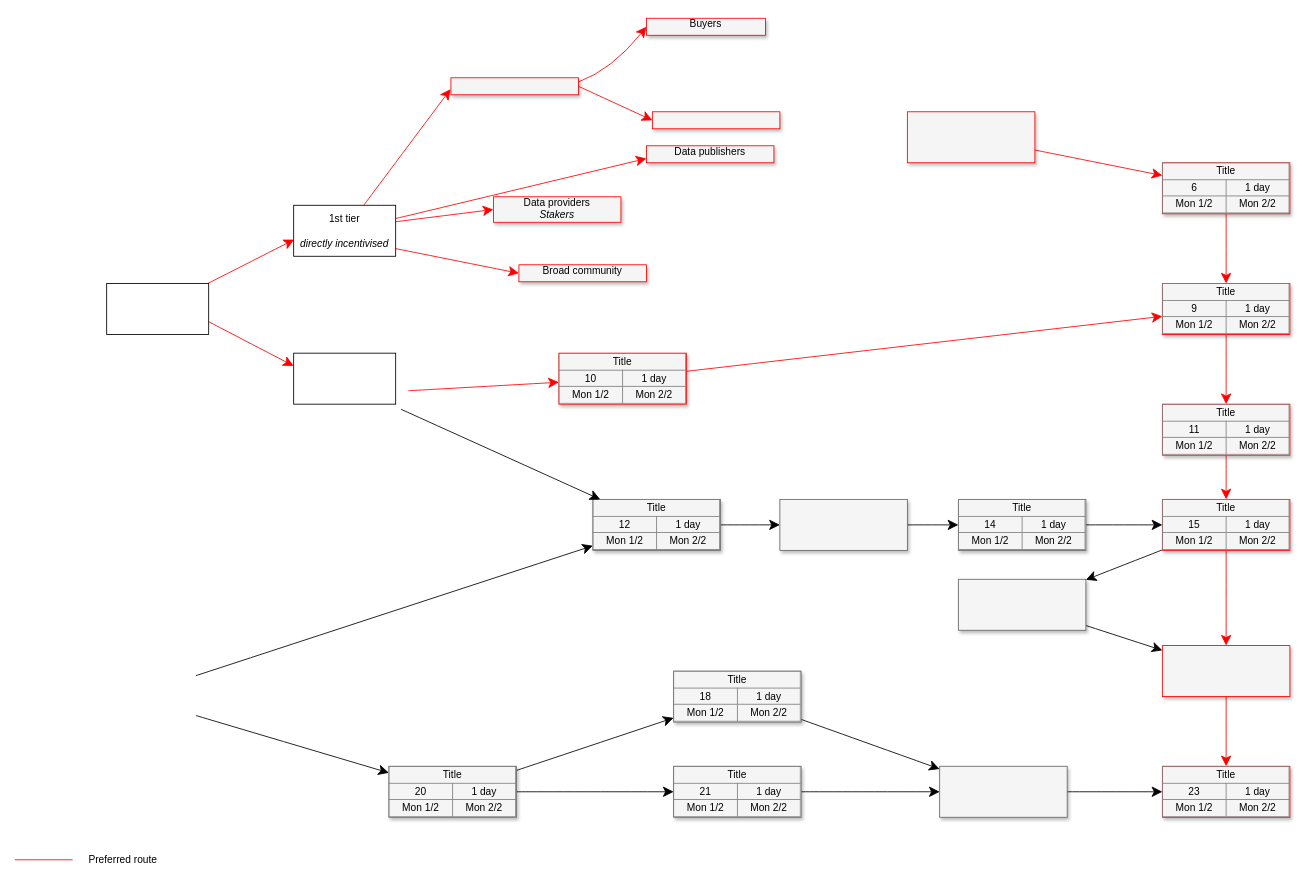
Image size: 1310x889. Some labels were removed from this diagram. Each missing label, with the centre of its shape:
2nd tier indirectly incentivised: the point at 344,378
Actors/Agents: the point at 157,308
Data consumers: the point at 515,87
Title: the point at 971,138
Title 13 1 day Mon 1/2 Mon 2/2: the point at 844,525
Title 17 1 day Mon 1/2 Mon 2/2: the point at 1022,605
Title 19 1 day Mon 1/2 Mon 2/2: the point at 1226,672
Title 22 1 day Mon 1/2 Mon 2/2: the point at 1003,792
